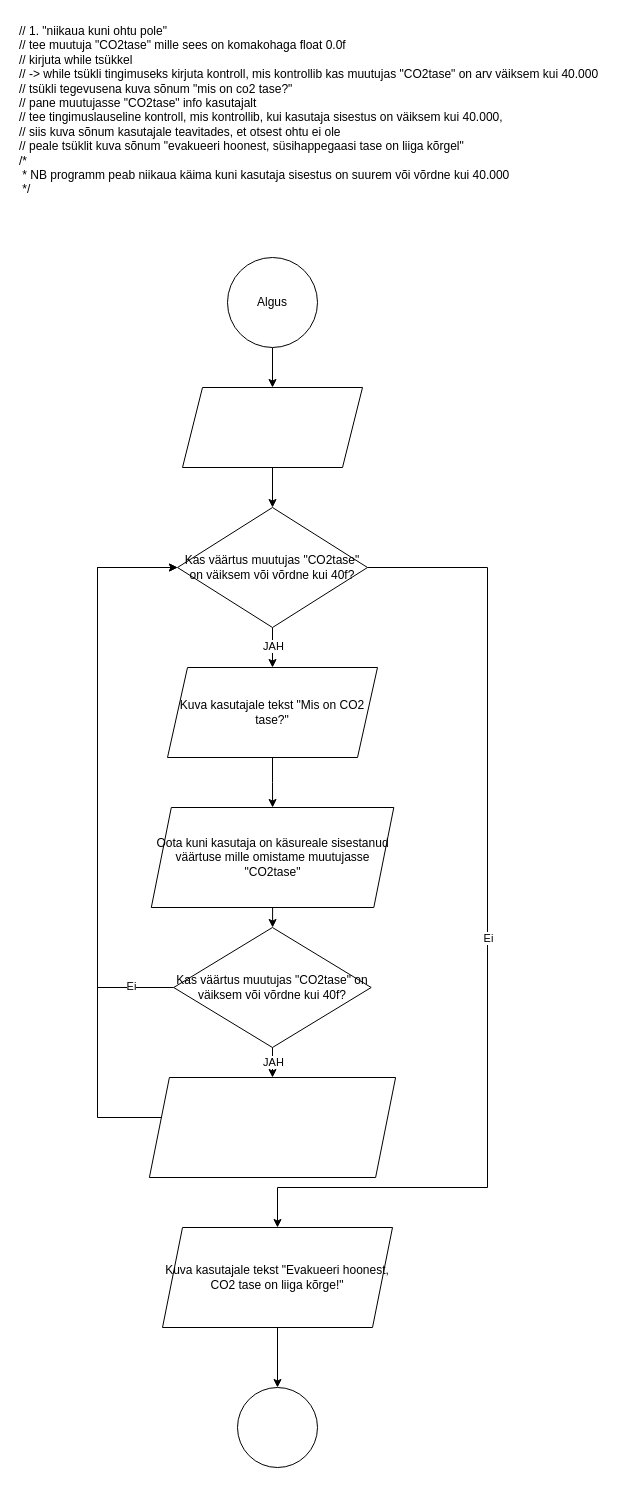
Some shapes in this 634 by 1485 pixel diagram are drawn without their labels. Here are the shapes that lost their labels. From the top down, the box of each, then its label:
(182, 386, 362, 468): Koosta muutuja "CO2tase" mille omistame algse väärtuse komakohaga float 0.0f
(148, 1076, 396, 1178): Kuva kasutajale tekst "Otsest ohtu ei ole"
(236, 1386, 318, 1468): Lõpp
